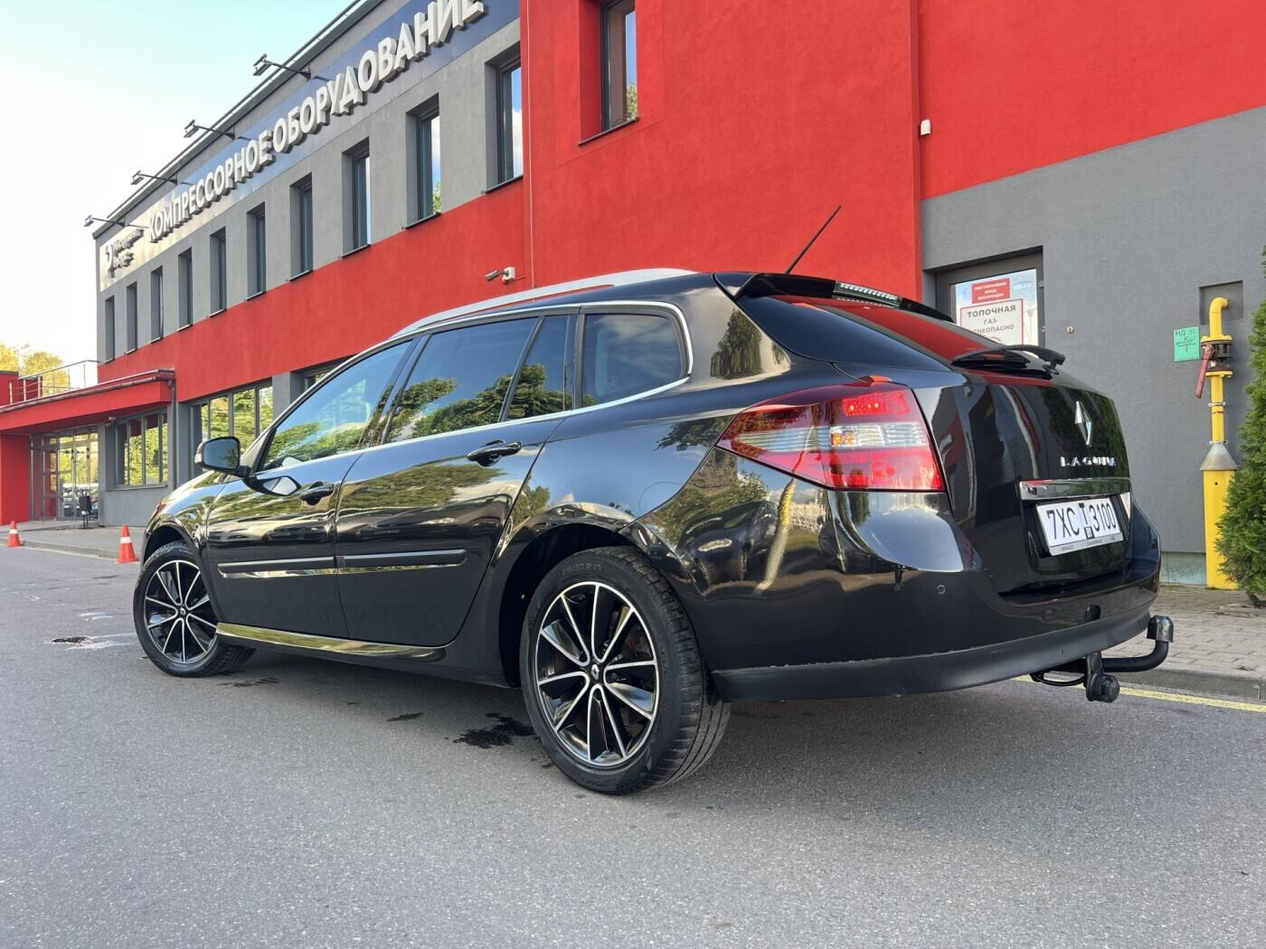Laguna_2010-2015: (129, 256, 1182, 804)
